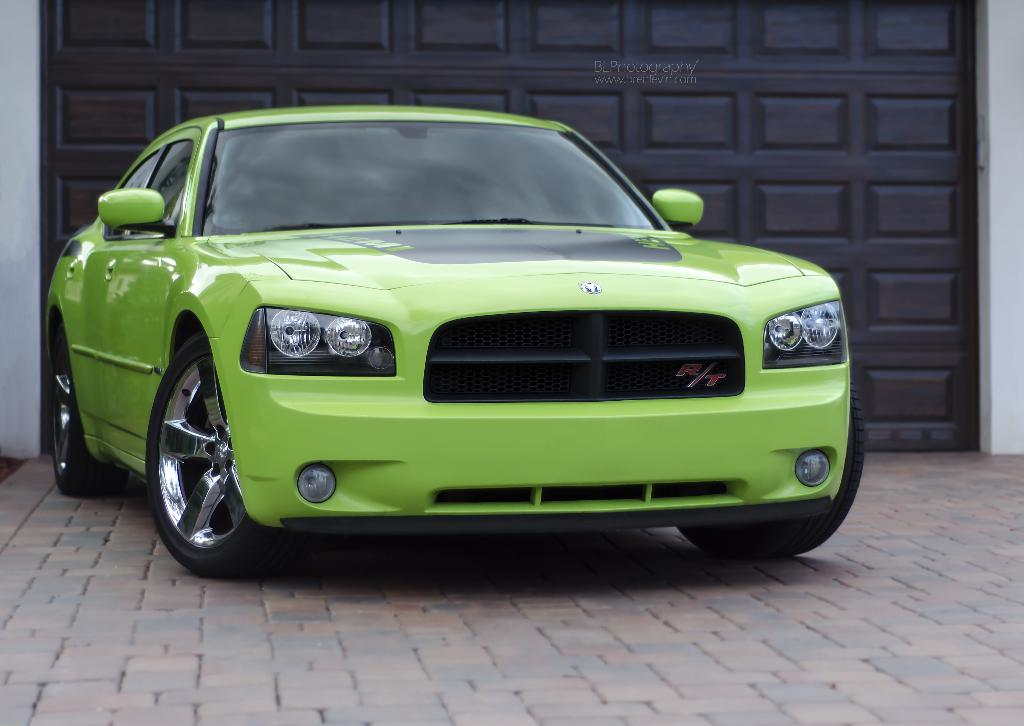car: (44, 99, 873, 567)
